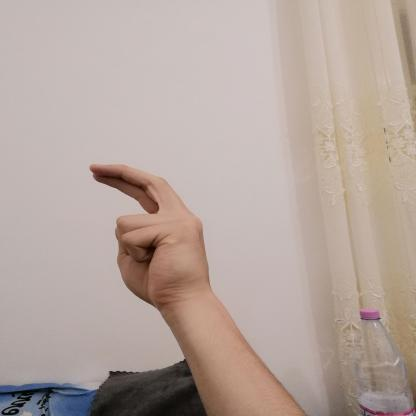ZAY: (74, 152, 227, 316)
